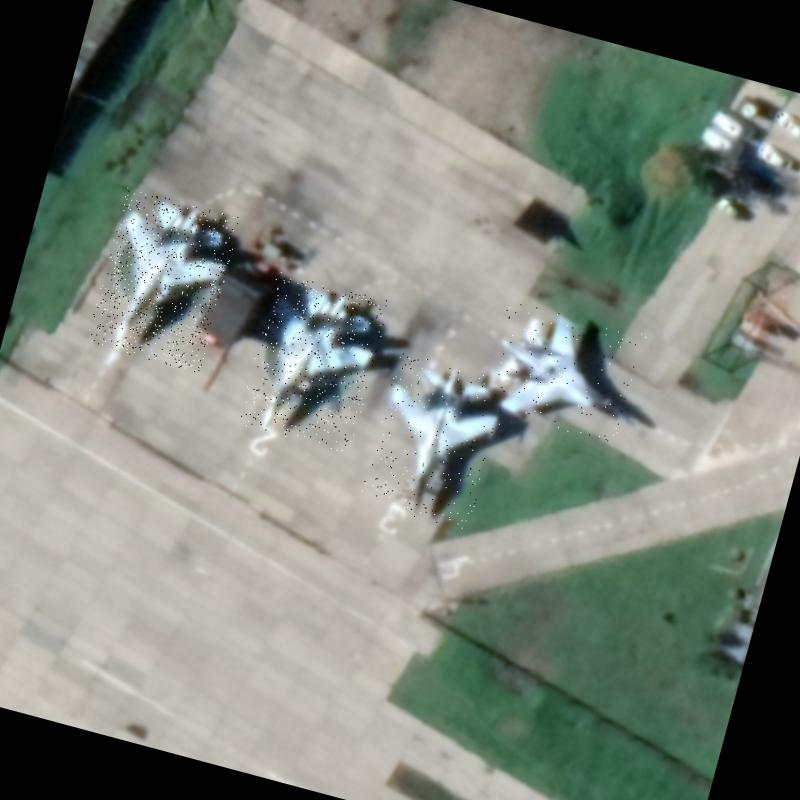A1: (85, 187, 241, 373), (236, 271, 390, 454), (358, 350, 512, 532), (478, 296, 648, 446)
